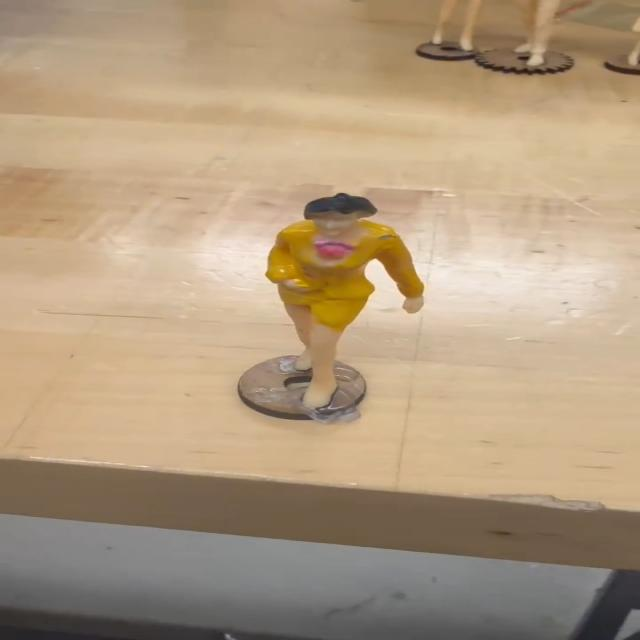Authorized: (242, 180, 440, 418)
